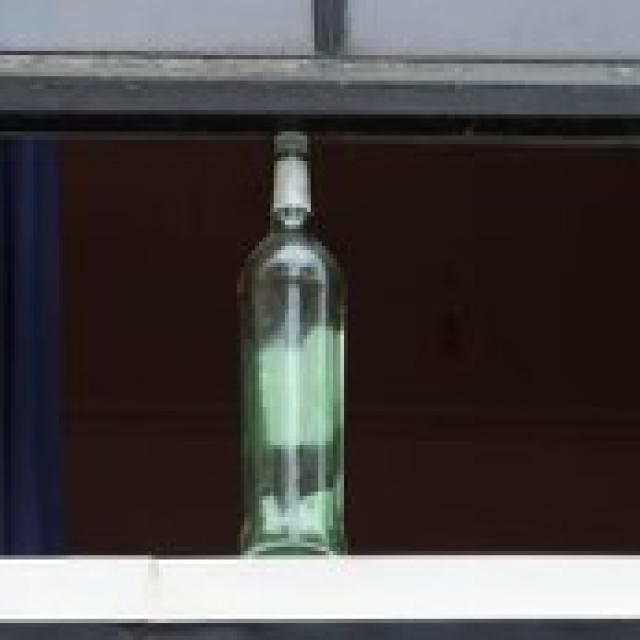electronic: (234, 124, 347, 568)
